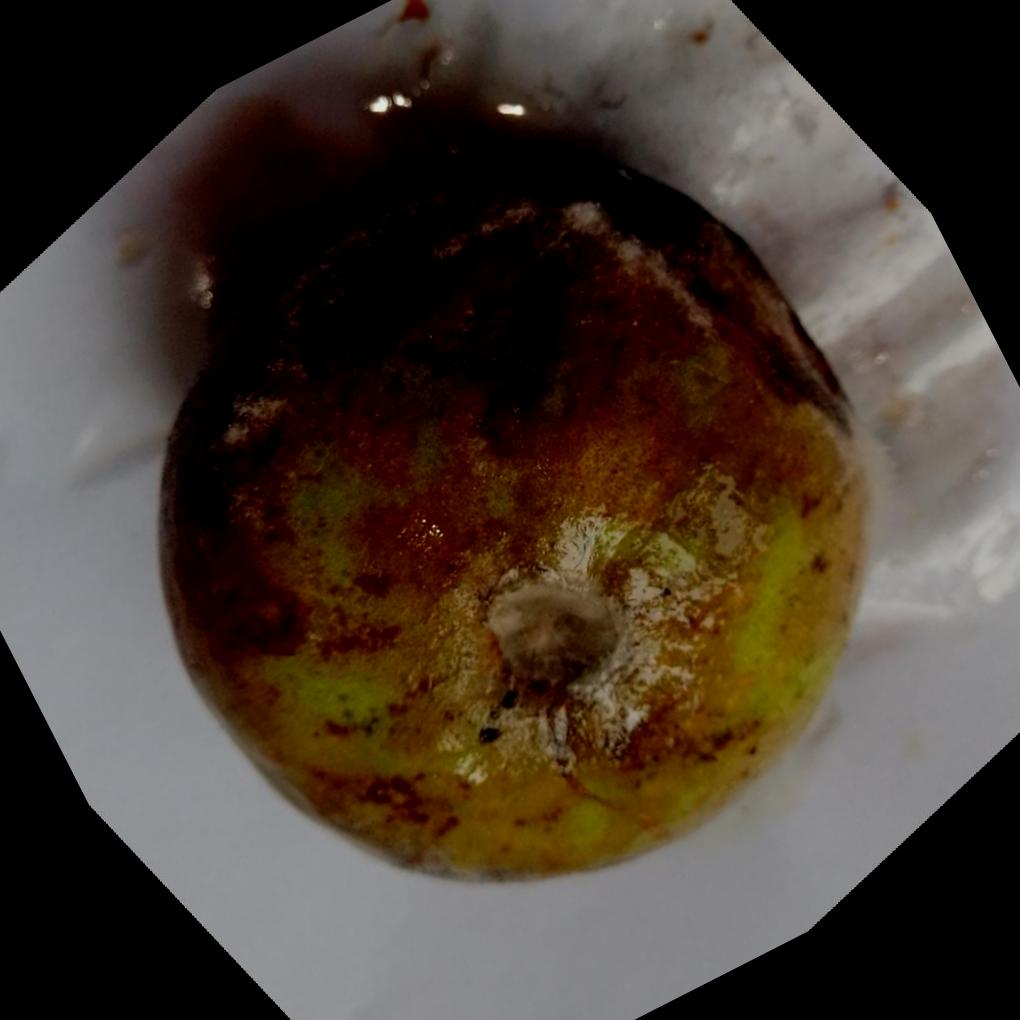FreshOrange: (155, 141, 876, 882)
